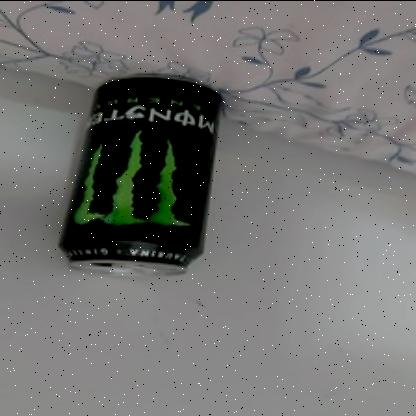Can: (57, 74, 224, 280)
